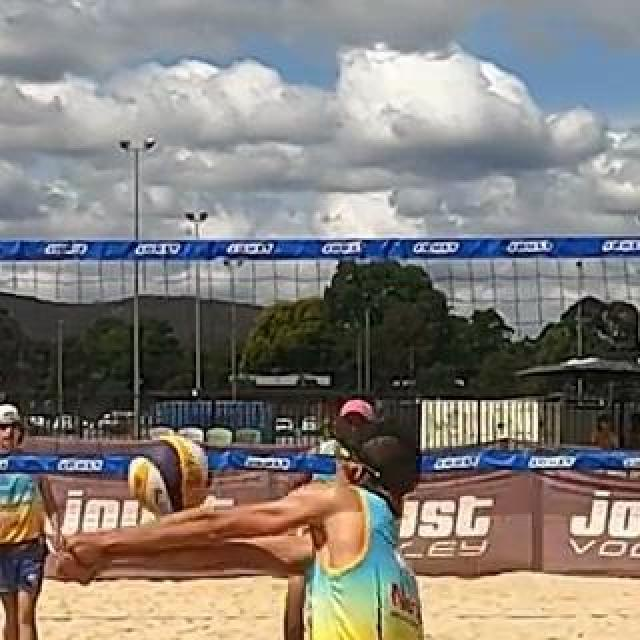volleyball: (126, 430, 212, 516)
